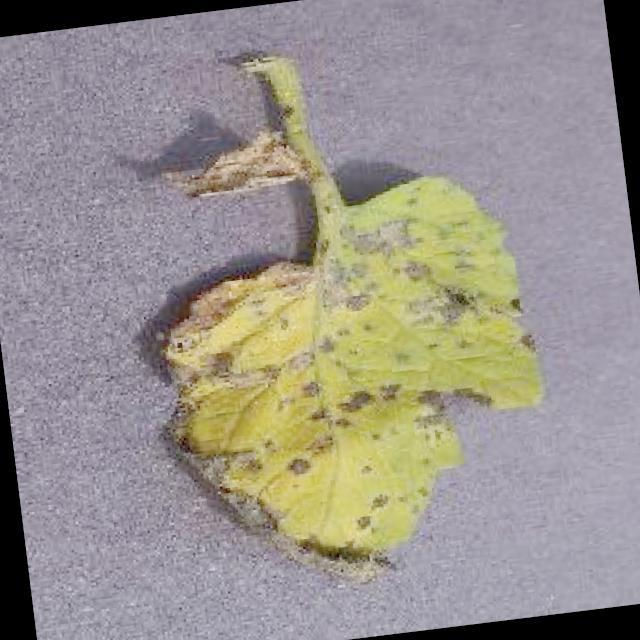Tomato Septoria spot leaf: (135, 164, 560, 606)
